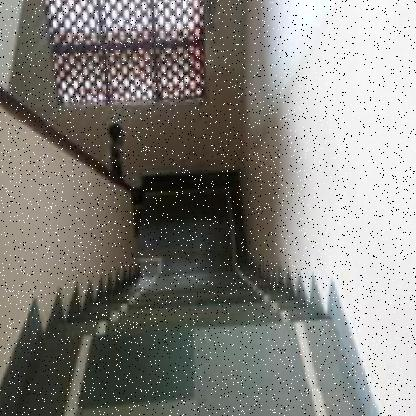stair_down: (59, 254, 327, 369)
